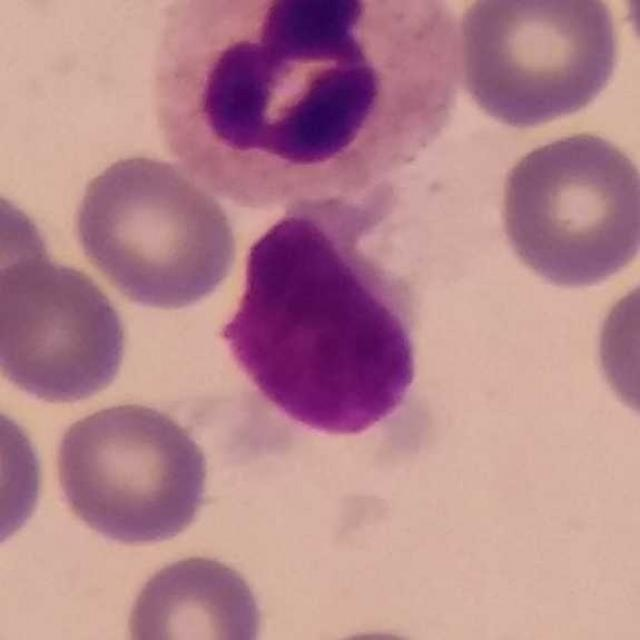Lymphocyte: (213, 190, 450, 444)
Neutrophil: (150, 2, 463, 212)
RBC: (66, 147, 242, 313), (48, 395, 214, 550), (492, 126, 640, 293), (450, 0, 625, 131), (0, 253, 134, 407), (120, 548, 270, 640), (0, 179, 60, 361), (587, 260, 640, 438), (0, 394, 51, 560), (284, 621, 463, 640), (614, 1, 640, 75)
